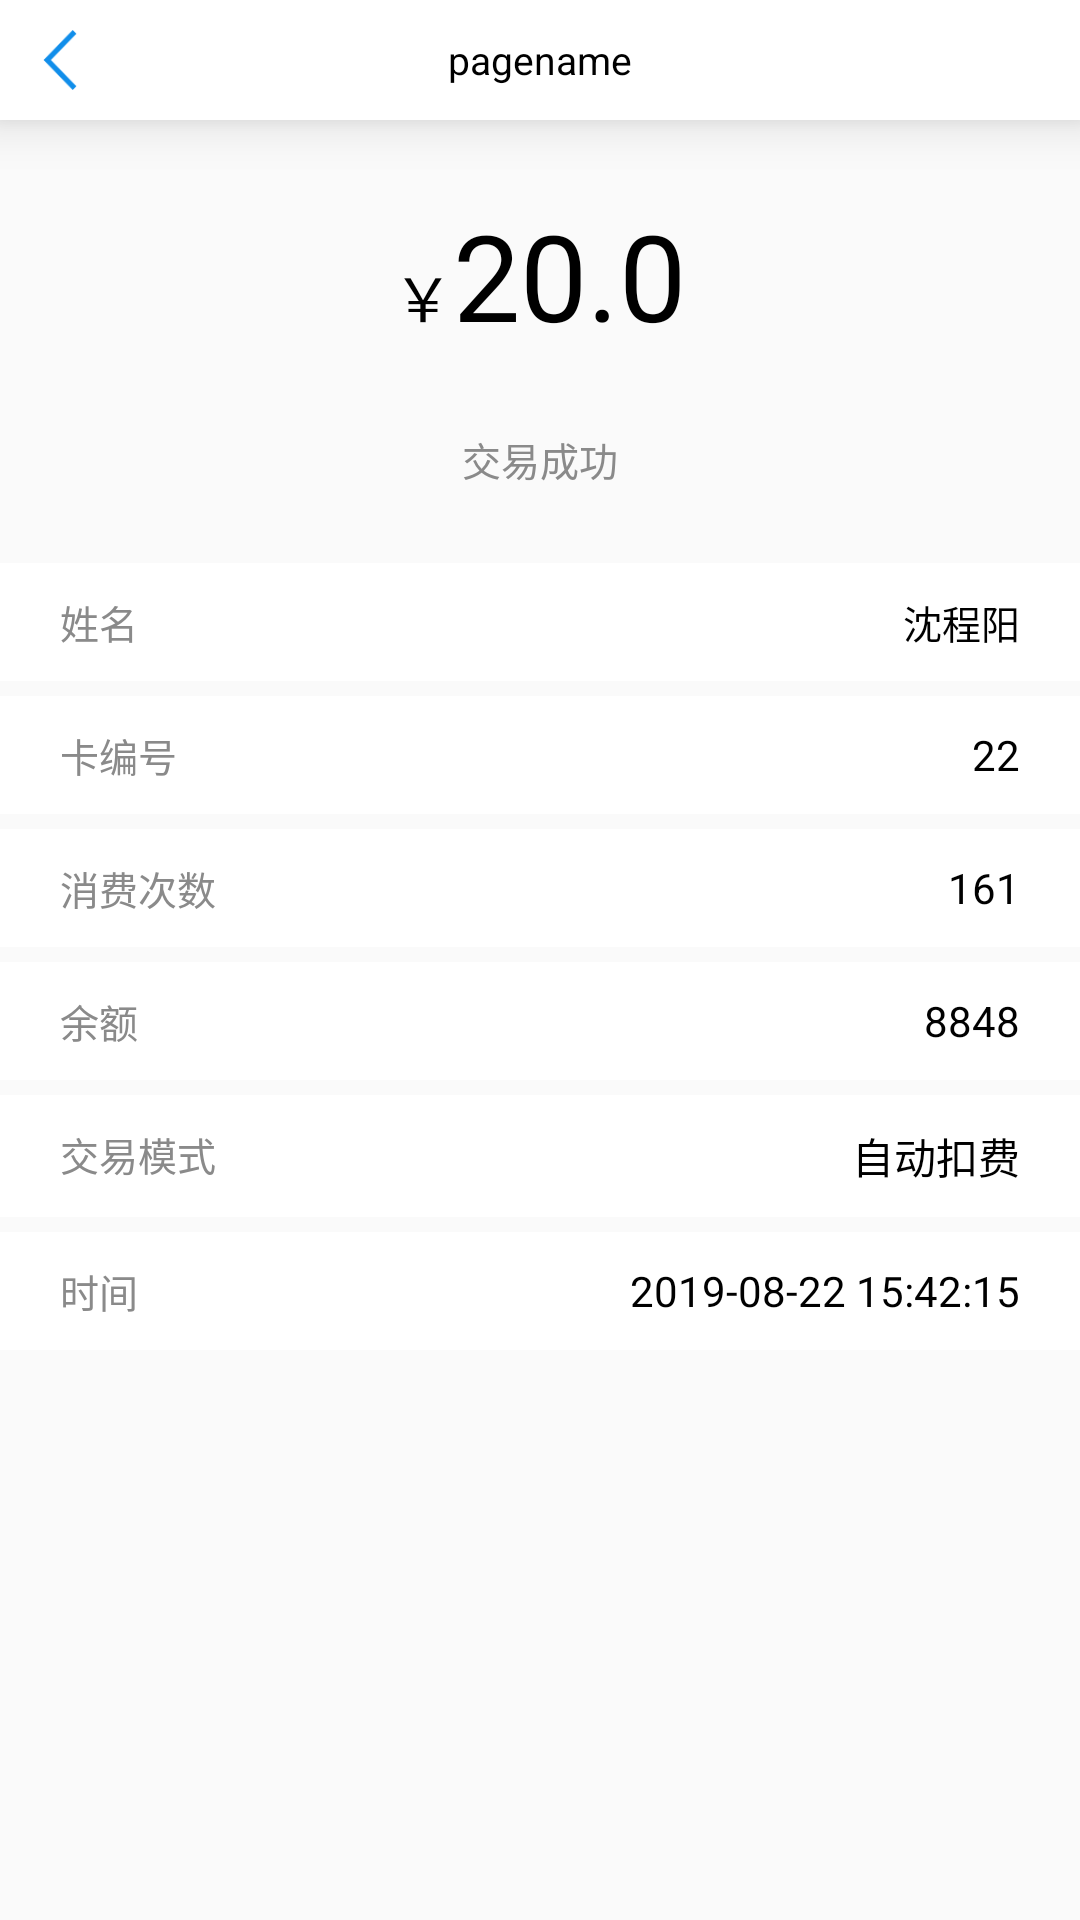

Screen size 1080 × 1920. Icon name, then its box in pixels as BBox(x1, y1, x2, y2):
fanhui: BBox(44, 30, 77, 90)
